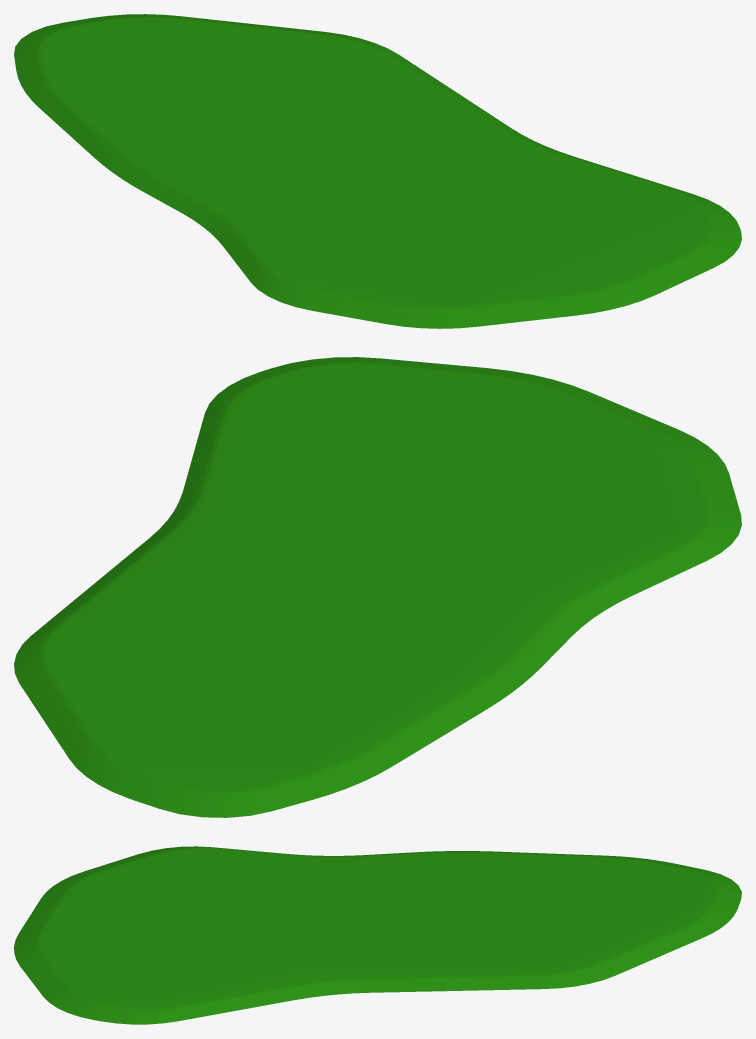
The model's file is GroundPadding02_1.fbx.
3 views of the same model, one above another, from view 1: azimuth 30°, elevation 25°; view 2: azimuth 150°, elevation 25°; view 3: azimuth 270°, elevation 25° (orthographic). The views are drawn at different scales.
Parts seen in each view (by area): view 1: LOD0; view 2: LOD0; view 3: LOD0.
Part boxes in pixels (<box>): LOD0: <box>14,14,741,328</box>; LOD0: <box>14,357,741,817</box>; LOD0: <box>14,846,741,1024</box>.
Size of what is drawn, in the model's own units: 1167 by 2016 by 20.52.
Materials: 1 (1 with a texture image).
